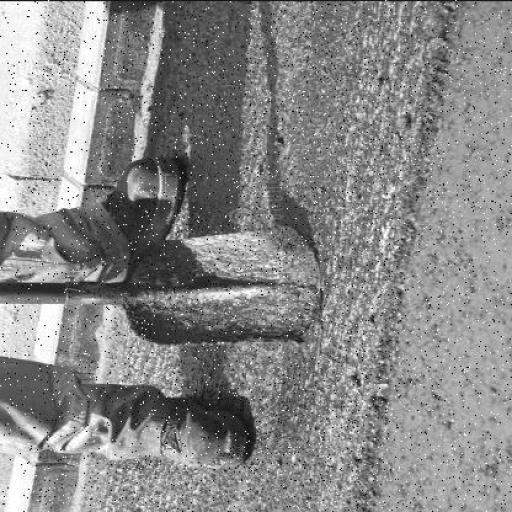safety_shoe: (96, 152, 186, 254), (147, 394, 246, 466)
